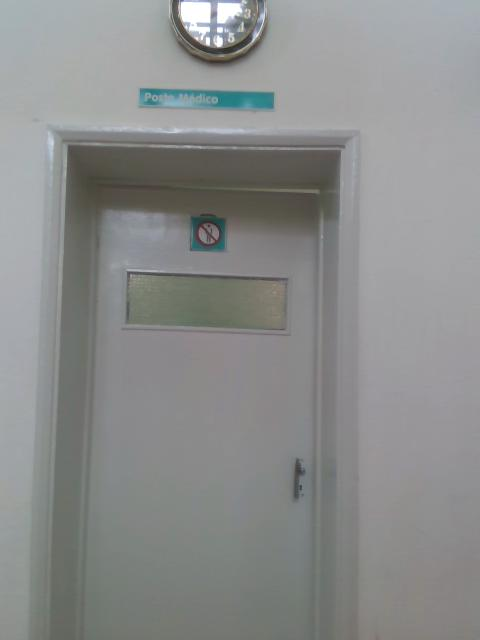closed_door: (43, 142, 337, 639)
